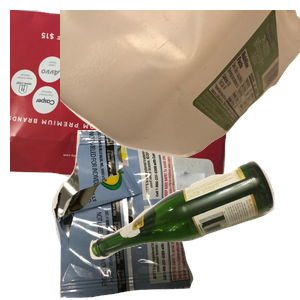glass: (87, 158, 300, 300)
paper: (10, 10, 238, 190)
plastic: (60, 10, 300, 160)
trash: (49, 130, 235, 300)
